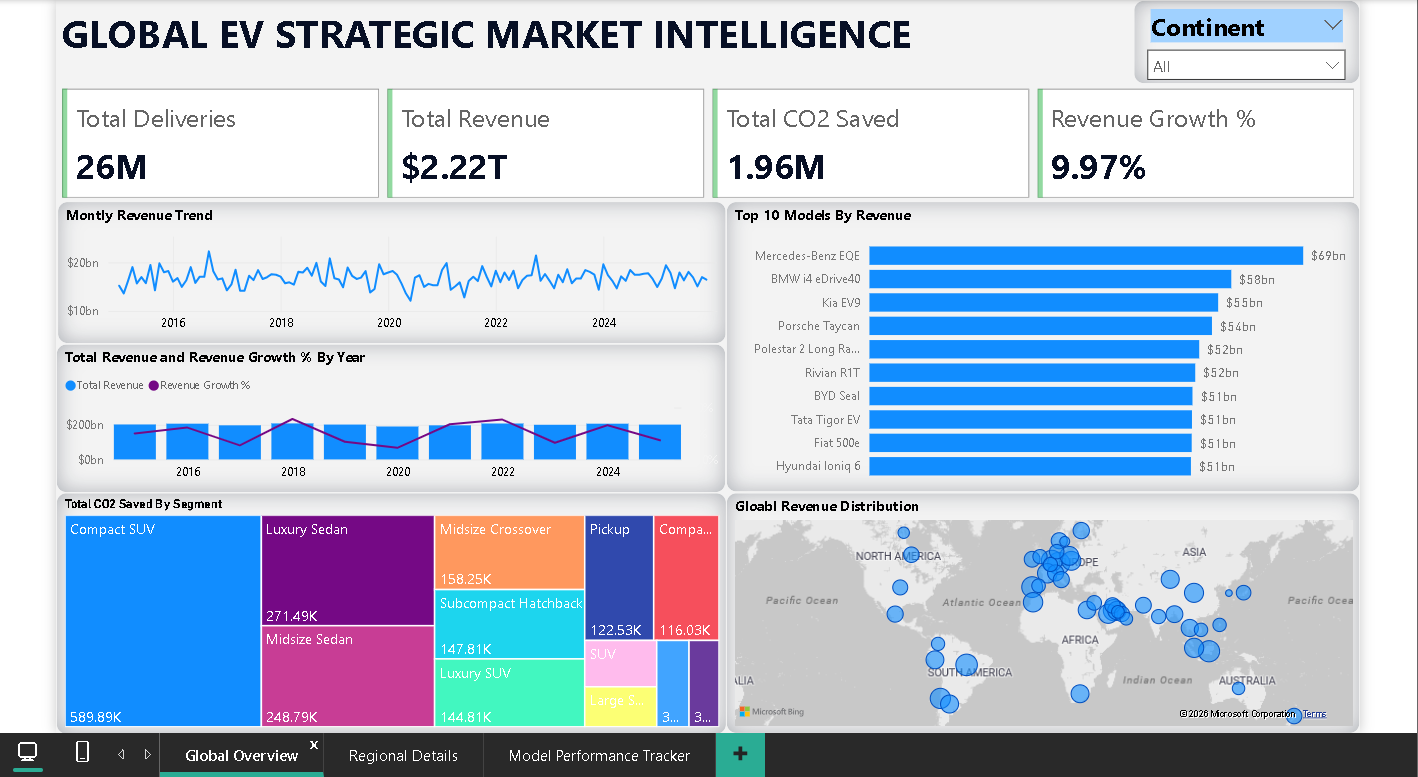

The dashboard page shown, as its layout file describes it:
{"tool":"powerbi","page":{"name":"Global Overview","canvas":[1280,720],"ordinal":0},"visuals":[{"type":"cardVisual","fields":{"Data":["sales.Total Deliveries","sales.Total Revenue","sales.Total CO2 Saved","sales.Revenue Growth %"]},"box":[1.2,82.2,1278.5,117.8],"z":0},{"type":"lineChart","title":"Montly Revenue Trend","fields":{"Y":["sales.Total Revenue"],"Category":["sales.Date"]},"box":[1.2,197.5,656.4,139.9],"z":1000},{"type":"treemap","title":"Total CO2 Saved By Segment","fields":{"Values":["sales.Total CO2 Saved"],"Group":["model.segment"]},"box":[0,483.1,658,237.2],"z":2000},{"type":"slicer","fields":{"Values":["region.continent"]},"box":[1057.7,0,222.1,82.2],"z":3000},{"type":"lineClusteredColumnComboChart","title":"Total Revenue and Revenue Growth % By Year","fields":{"Category":["Calendar.Date.Variation.Date Hierarchy.Year"],"Y":["sales.Total Revenue"],"Y2":["sales.Revenue Growth %"]},"box":[0,337.4,657.7,146],"z":4000},{"type":"map","title":"Gloabl Revenue Distribution","fields":{"Category":["region.region_name"],"Size":["sales.Total Revenue"]},"box":[657.7,483.4,622.1,236.8],"z":5000},{"type":"clusteredBarChart","title":"Top 10 Models By Revenue","fields":{"Category":["model.model_name"],"Y":["sales.Total Revenue"]},"box":[657.7,197.5,622.1,285.9],"z":6000},{"type":"textbox","box":[1.2,2.5,872.4,69.9],"z":7000}]}

Visuals, with their boxes on the page's 1280x720 design canvas (x1, y1, x2, y2). These are canvas units, not pixel positions in the 1418x777 screenshot, which may show the page scaled, cropped or inside an application window:
cardVisual - sales.Total Deliveries x sales.Total Revenue: [x1=1, y1=82, x2=1280, y2=200]
"Montly Revenue Trend" lineChart: [x1=1, y1=198, x2=658, y2=337]
"Total CO2 Saved By Segment" treemap: [x1=0, y1=483, x2=658, y2=720]
slicer - region.continent: [x1=1058, y1=0, x2=1280, y2=82]
"Total Revenue and Revenue Growth % By Year" lineClusteredColumnComboChart: [x1=0, y1=337, x2=658, y2=483]
"Gloabl Revenue Distribution" map: [x1=658, y1=483, x2=1280, y2=720]
"Top 10 Models By Revenue" clusteredBarChart: [x1=658, y1=198, x2=1280, y2=483]
textbox: [x1=1, y1=2, x2=874, y2=72]
